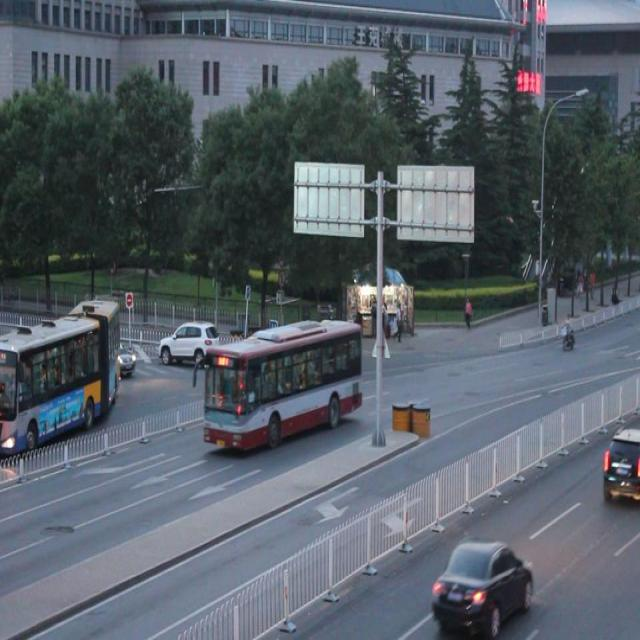car: (428, 534, 532, 640), (158, 316, 222, 368), (600, 420, 640, 503)
van: (199, 315, 363, 453), (1, 296, 120, 448)
